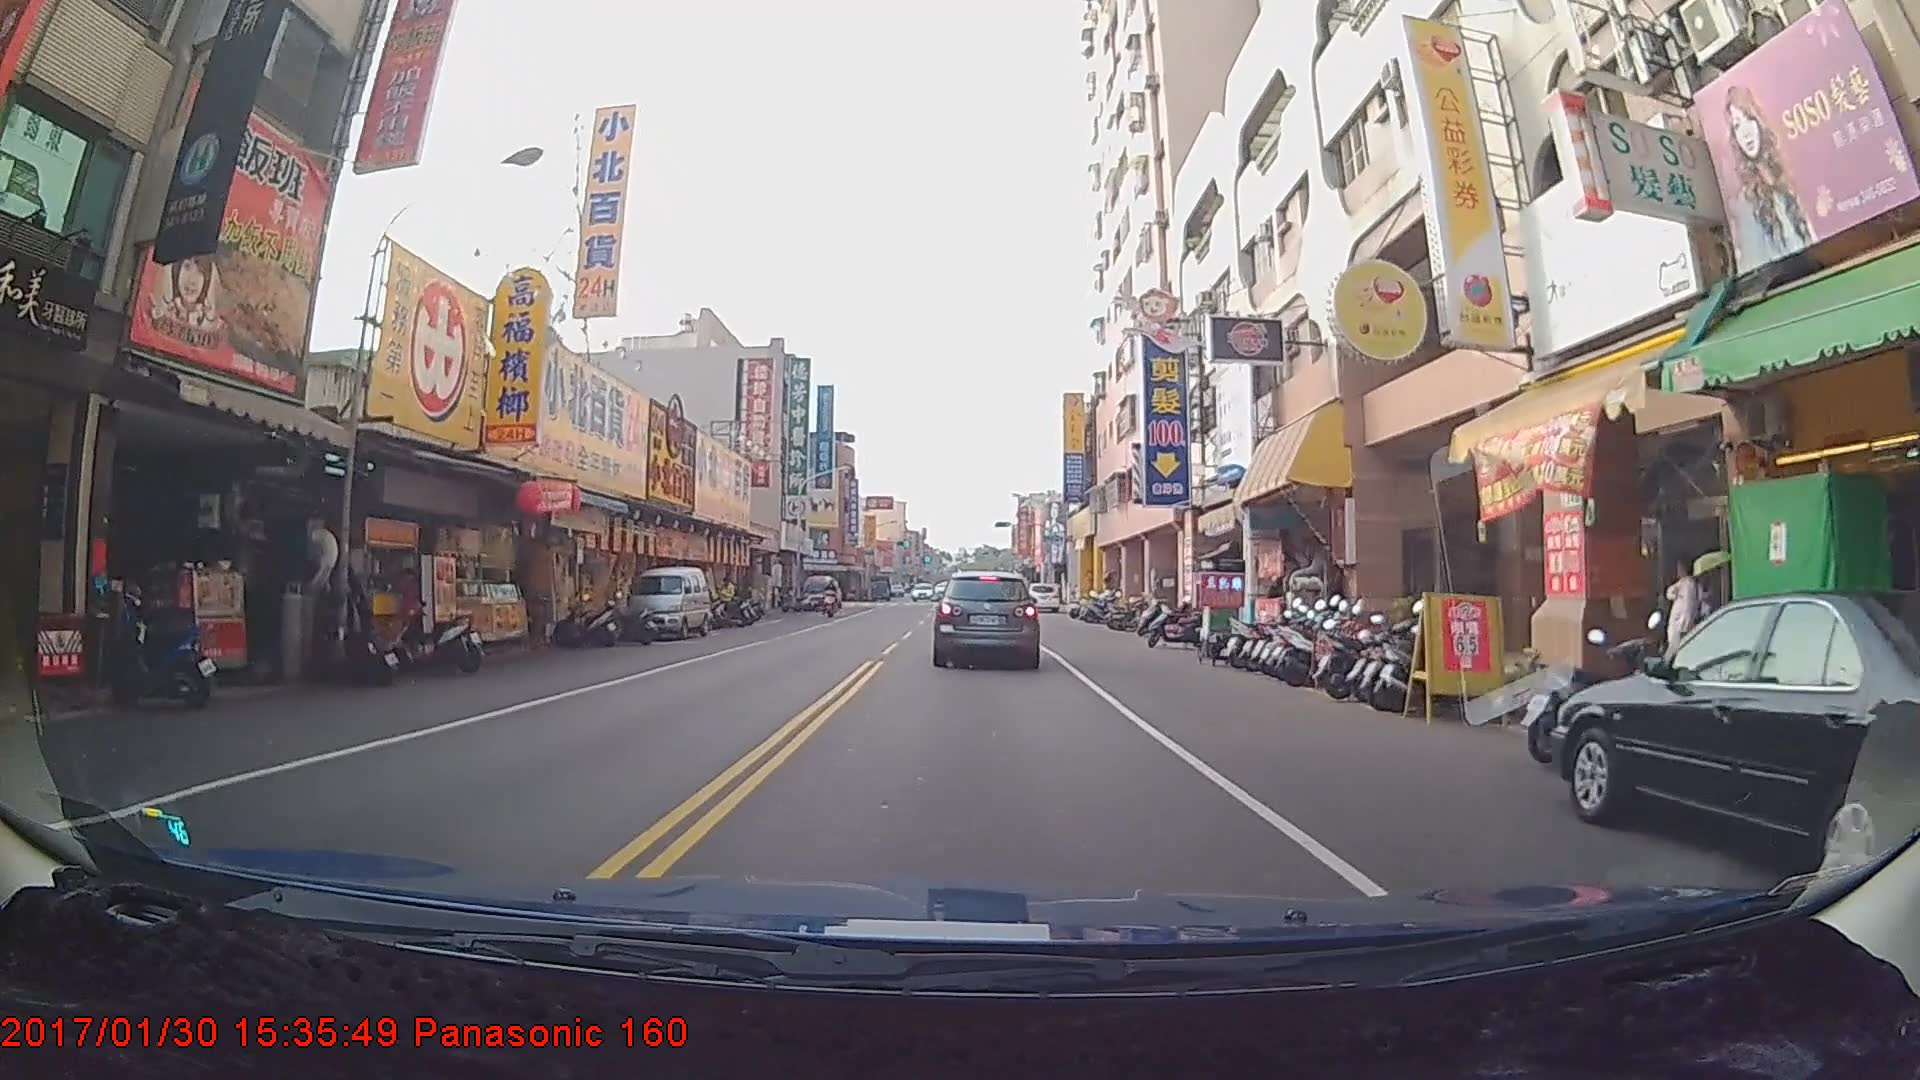pedestrian: (1661, 557, 1710, 689), (714, 573, 737, 624)
rider: (818, 572, 842, 616)
vehicle: (1549, 589, 1920, 909), (933, 568, 1041, 668), (621, 565, 709, 639), (802, 572, 838, 609), (1026, 582, 1060, 614)
